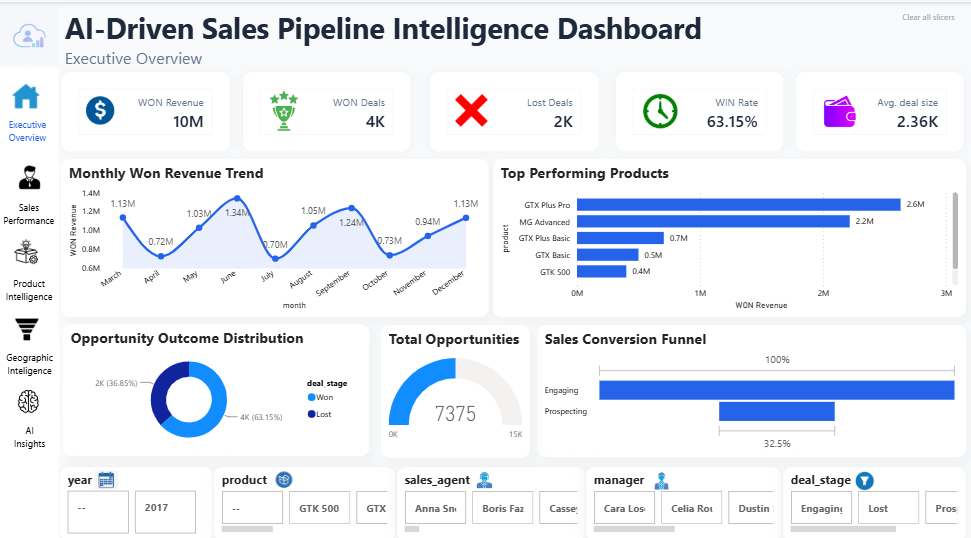

This screenshot's page, from the dashboard's own definition file:
{"tool":"powerbi","page":{"name":"Executive Overview","canvas":[1280,720],"ordinal":0},"visuals":[{"type":"textbox","box":[80.6,4.5,1198.5,101.5],"z":0},{"type":"cardVisual","fields":{"Data":["Measures (2).WON Revenue"]},"box":[80.6,91,220.9,104.5],"z":1000},{"type":"cardVisual","fields":{"Data":["Measures (2).WON Deals"]},"box":[319.4,91,219.4,104.5],"z":2000},{"type":"cardVisual","fields":{"Data":["Measures (2).Lost Deals"]},"box":[564.2,91,220.9,104.5],"z":3000},{"type":"cardVisual","fields":{"Data":["Measures (2).WIN Rate"]},"box":[807.5,91,219.4,104.5],"z":4000},{"type":"cardVisual","fields":{"Data":["Measures (2).Avg. deal size"]},"box":[1043.3,91,219.4,104.5],"z":5000},{"type":"lineChart","title":"Monthly Won Revenue Trend","fields":{"Y":["Measures (2).WON Revenue"],"Category":["date.month"]},"box":[80.6,205.9,560.2,207.4],"z":6000},{"type":"clusteredBarChart","title":"Top Performing Products","fields":{"Category":["Products.product"],"Y":["Measures (2).WON Revenue"]},"box":[646.6,205.9,619.2,207.4],"z":7000},{"type":"donutChart","title":"Opportunity Outcome Distribution","fields":{"Category":["Sales Pipeline.deal_stage"],"Y":["Measures (2).Total Opportunities"]},"box":[83.8,421.5,400.6,172.8],"z":8000},{"type":"funnel","title":"Sales Conversion Funnel","fields":{"Category":["Sales Pipeline.deal_stage"],"Y":["Measures (2).Total Opportunities"]},"box":[704.7,422.5,561.5,173.4],"z":9000},{"type":"advancedSlicerVisual","fields":{"Values":["date.year"]},"box":[80.5,608.6,200,97],"z":10000},{"type":"advancedSlicerVisual","fields":{"Values":["Products.product"]},"box":[281.9,608.6,237.3,97],"z":11000},{"type":"advancedSlicerVisual","fields":{"Values":["Sales Pipeline.sales_agent"]},"box":[520.8,608.6,246.3,97],"z":12000},{"type":"advancedSlicerVisual","fields":{"Values":["Sales Team.manager"]},"box":[768.5,608.6,255.2,97],"z":13000},{"type":"advancedSlicerVisual","fields":{"Values":["Sales Pipeline.deal_stage"]},"box":[1026.7,608.6,238.8,97],"z":14000},{"type":"shape","box":[0,86.7,78.2,629.3],"z":15000},{"type":"image","box":[0,6,80.6,76.1],"z":16000},{"type":"image","box":[113.3,120,36.7,43.3],"z":17000},{"type":"image","box":[343.3,116.7,60,51.7],"z":18000},{"type":"image","box":[596.7,120,43.3,43.3],"z":19000},{"type":"image","box":[835,120,61.7,45],"z":20000},{"type":"image","box":[1068.5,119.5,64.8,47.5],"z":21000},{"type":"image","box":[123.8,603.4,31.7,43.2],"z":22000},{"type":"image","box":[354.2,612,37.4,27.4],"z":23000},{"type":"image","box":[617.8,613.4,34.6,24.5],"z":24000},{"type":"image","box":[848.2,613.4,38.9,25.9],"z":25000},{"type":"image","box":[1118.9,613.4,27.4,25.9],"z":26000},{"type":"image","box":[7.3,100.8,55,45],"z":27000},{"type":"textbox","box":[7.4,145.7,63.8,54.8],"z":28000},{"type":"image","box":[8.6,205.9,61.9,47.5],"z":29000},{"type":"textbox","box":[0,253.7,78.2,48.9],"z":30000},{"type":"image","box":[7.9,310.5,55.3,32.9],"z":31000},{"type":"textbox","box":[1.3,353.9,76.3,48.7],"z":32000},{"type":"image","box":[10.5,413.2,51.3,30.3],"z":33000},{"type":"textbox","box":[0,450,80.3,48.7],"z":34000},{"type":"image","box":[10.5,500,55.3,46.1],"z":35000},{"type":"textbox","box":[0,546.1,80.3,48.7],"z":36000},{"type":"actionButton","box":[1153.4,4.3,126.7,30.2],"z":37000},{"type":"gauge","fields":{"Y":["Measures (2).Total Opportunities"]},"box":[500.1,422.8,195.1,174.1],"z":37001}]}

Visuals, with their boxes on the page's 1280x720 design canvas (x1, y1, x2, y2). These are canvas units, not pixel positions in the 971x538 screenshot, which may show the page scaled, cropped or inside an application window:
textbox: 81 4 1279 106
cardVisual - Measures (2).WON Revenue: 81 91 302 196
cardVisual - Measures (2).WON Deals: 319 91 539 196
cardVisual - Measures (2).Lost Deals: 564 91 785 196
cardVisual - Measures (2).WIN Rate: 808 91 1027 196
cardVisual - Measures (2).Avg. deal size: 1043 91 1263 196
"Monthly Won Revenue Trend" lineChart: 81 206 641 413
"Top Performing Products" clusteredBarChart: 647 206 1266 413
"Opportunity Outcome Distribution" donutChart: 84 422 484 594
"Sales Conversion Funnel" funnel: 705 422 1266 596
advancedSlicerVisual - date.year: 80 609 280 706
advancedSlicerVisual - Products.product: 282 609 519 706
advancedSlicerVisual - Sales Pipeline.sales_agent: 521 609 767 706
advancedSlicerVisual - Sales Team.manager: 768 609 1024 706
advancedSlicerVisual - Sales Pipeline.deal_stage: 1027 609 1266 706
shape: 0 87 78 716
image: 0 6 81 82
image: 113 120 150 163
image: 343 117 403 168
image: 597 120 640 163
image: 835 120 897 165
image: 1068 120 1133 167
image: 124 603 156 647
image: 354 612 392 639
image: 618 613 652 638
image: 848 613 887 639
image: 1119 613 1146 639
image: 7 101 62 146
textbox: 7 146 71 200
image: 9 206 70 253
textbox: 0 254 78 303
image: 8 310 63 343
textbox: 1 354 78 403
image: 10 413 62 444
textbox: 0 450 80 499
image: 10 500 66 546
textbox: 0 546 80 595
actionButton: 1153 4 1280 34
gauge - Measures (2).Total Opportunities: 500 423 695 597
